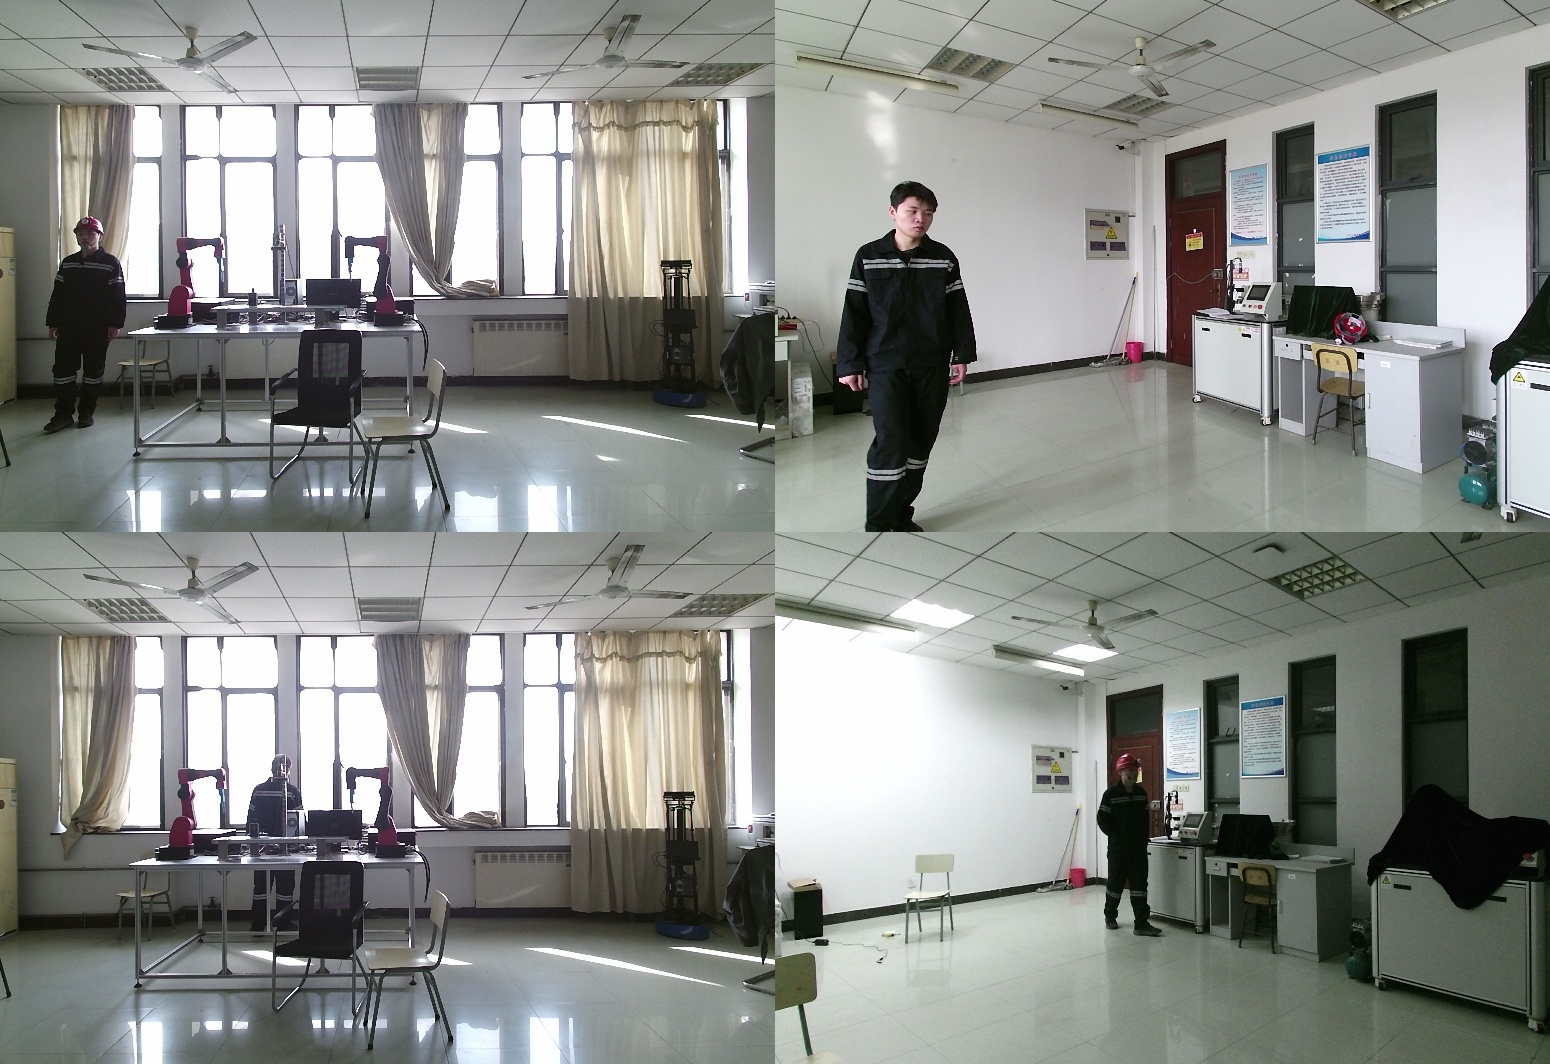person: (833, 183, 974, 532), (40, 215, 127, 433), (1085, 757, 1165, 941), (247, 756, 314, 948)
